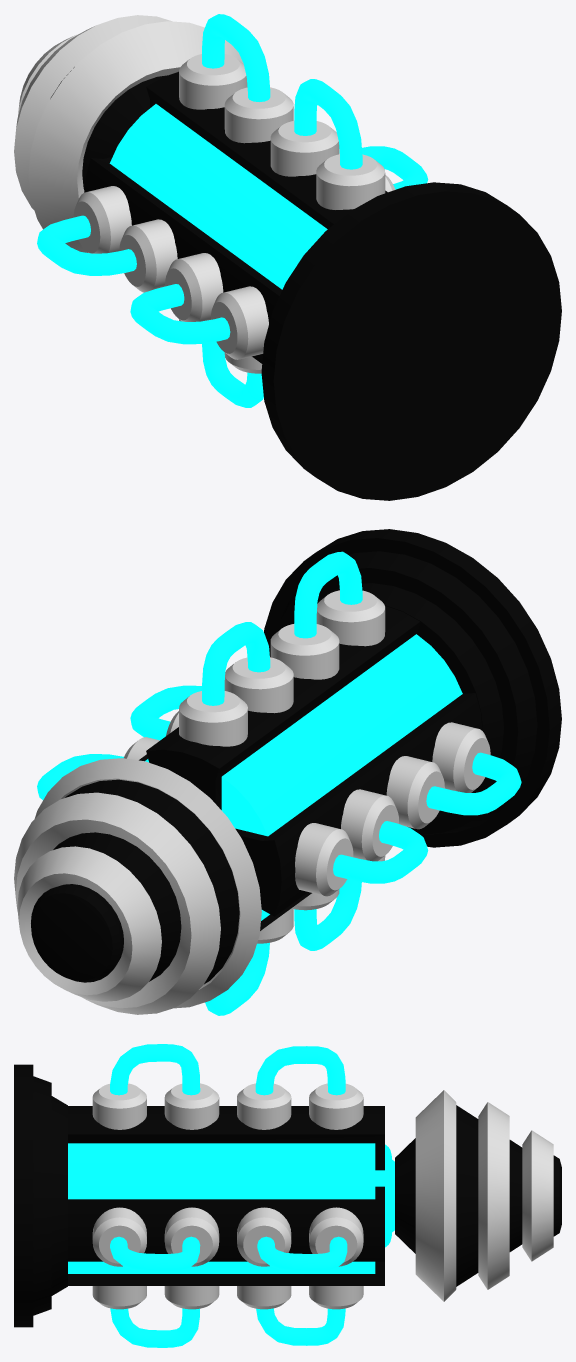
File: CashCow4.fbx
3 views of the same model, one above another, from view 1: azimuth 30°, elevation 25°; view 2: azimuth 150°, elevation 25°; view 3: azimuth 270°, elevation 25° (orthographic). The views are drawn at different scales.
Parts seen in each view (by area): view 1: Cylinder, Livet2, Cylinder.001, Cylinder.010, Cylinder.011, Cylinder.004, Plane.001, Plane.003, Plane, Plane.002, Livet; view 2: Livet2, Cylinder, Cylinder.001, Cylinder.004, Livet, Cylinder.010, Cylinder.011, Plane, Plane.002, Plane.001, Plane.003; view 3: Cylinder.004, Cylinder.001, Livet2, Cylinder, Cylinder.010, Cylinder.011, Livet, Plane, Plane.001, Plane.003, Plane.002.
Boxes of the visible parts, bbox=[...] form: Cylinder: bbox=[261, 182, 561, 500]; Livet2: bbox=[14, 15, 243, 252]; Cylinder.001: bbox=[109, 104, 327, 289]; Cylinder.010: bbox=[179, 54, 385, 373]; Cylinder.011: bbox=[73, 149, 395, 359]; Cylinder.004: bbox=[84, 71, 387, 363]; Plane.001: bbox=[202, 14, 270, 407]; Plane.003: bbox=[37, 146, 428, 275]; Plane: bbox=[294, 79, 362, 169]; Plane.002: bbox=[130, 284, 230, 344]; Livet: bbox=[50, 67, 167, 189]; Livet2: bbox=[14, 758, 261, 1014]; Cylinder: bbox=[264, 529, 561, 847]; Cylinder.001: bbox=[145, 634, 462, 920]; Cylinder.004: bbox=[139, 606, 482, 930]; Livet: bbox=[31, 779, 239, 984]; Cylinder.010: bbox=[179, 590, 385, 943]; Cylinder.011: bbox=[124, 711, 490, 896]; Plane: bbox=[294, 551, 362, 950]; Plane.002: bbox=[130, 685, 521, 815]; Plane.001: bbox=[202, 622, 270, 1015]; Plane.003: bbox=[37, 754, 428, 883]; Cylinder.004: bbox=[68, 1106, 384, 1285]; Cylinder.001: bbox=[68, 1143, 394, 1273]; Livet2: bbox=[415, 1090, 553, 1301]; Cylinder: bbox=[14, 1064, 67, 1327]; Cylinder.010: bbox=[92, 1083, 363, 1309]; Cylinder.011: bbox=[92, 1207, 363, 1266]; Livet: bbox=[395, 1105, 561, 1286]; Plane: bbox=[110, 1044, 200, 1347]; Plane.001: bbox=[255, 1046, 345, 1345]; Plane.003: bbox=[257, 1236, 347, 1271]; Plane.002: bbox=[110, 1236, 200, 1271].
Size of the model in its own units: 4206 by 4206 by 6911.
